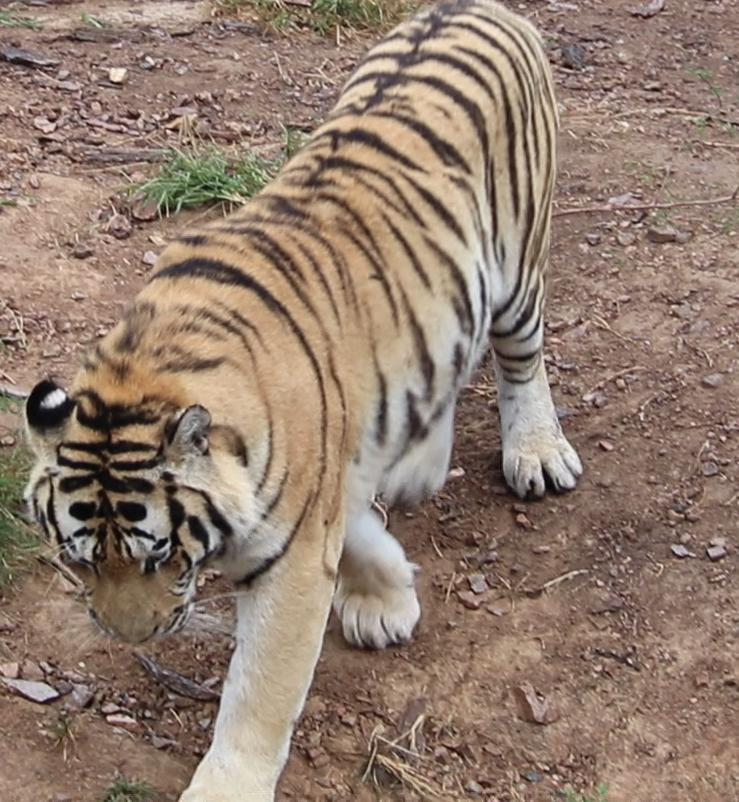tiger: (25, 0, 581, 801)
